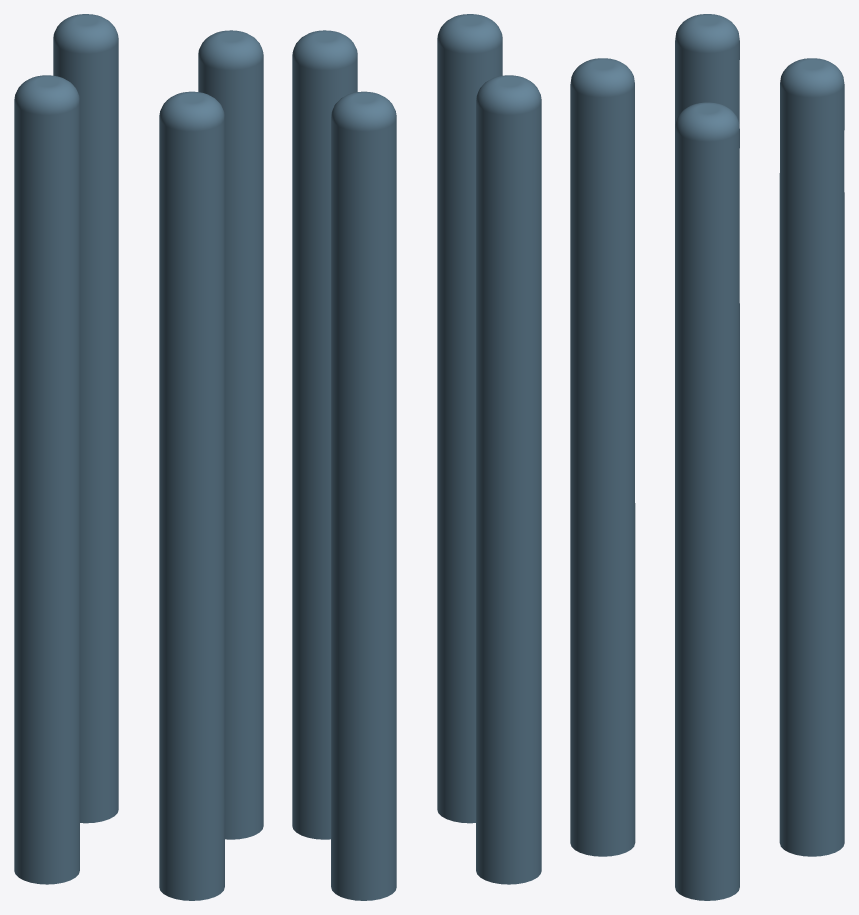
Rendered from guide_rods.dae.
3 views of the same model, side by side, from view 1: azimuth 30°, elevation 25°; view 2: azimuth 150°, elevation 25°; view 3: azimuth 270°, elevation 25° (orthographic).
Parts seen in each view (by area): view 1: Body_4, Body_3, Body_2, Body_1; view 2: Body_4, Body_1, Body_2, Body_3; view 3: Body_1, Body_3, Body_2, Body_4.
Boxes of the visible parts, x1,y1,x2,y2 form: Body_4: [14, 75, 79, 884]; Body_3: [159, 91, 224, 900]; Body_2: [198, 30, 263, 839]; Body_1: [53, 14, 118, 823]; Body_4: [476, 75, 541, 884]; Body_1: [331, 91, 396, 900]; Body_2: [292, 30, 357, 839]; Body_3: [437, 14, 502, 823]; Body_1: [779, 58, 844, 856]; Body_3: [570, 58, 635, 856]; Body_2: [675, 102, 739, 900]; Body_4: [675, 14, 739, 391].
Bounding box in the file's own units: 0.0333 × 0.0333 × 0.1041.
